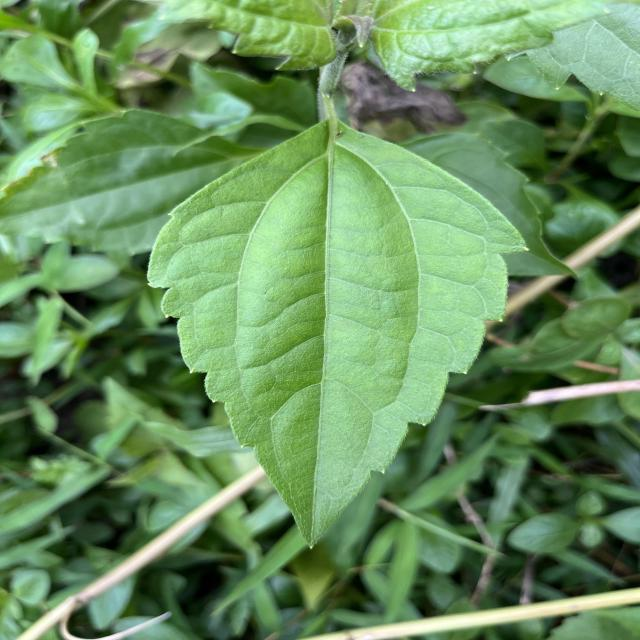Chromolaena odorata: (142, 112, 536, 555)
